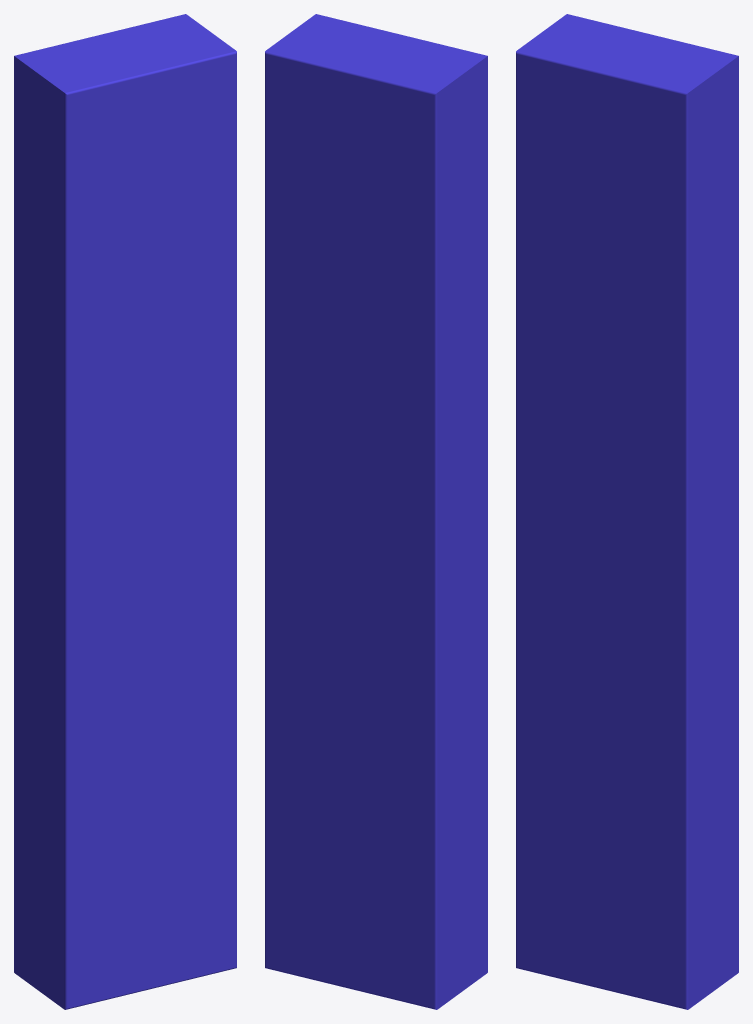
The picture shows the model from 3 angles, left to right: view 1: azimuth 30°, elevation 25°; view 2: azimuth 150°, elevation 25°; view 3: azimuth 330°, elevation 25°; orthographic projection.
Size of the model in its own units: 0.7852 by 4 by 0.4154.
